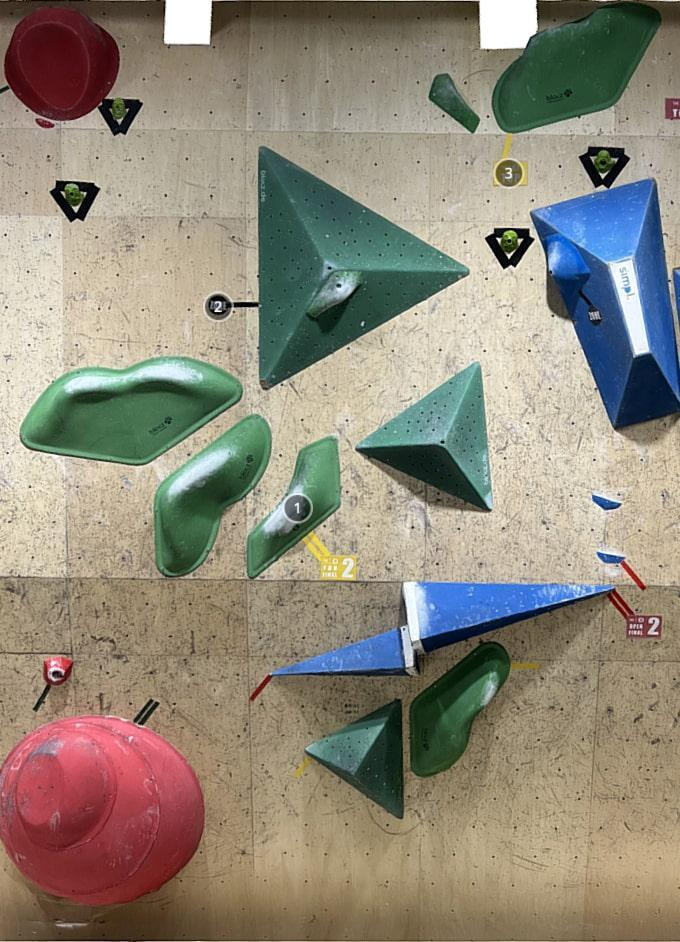hold: (0, 714, 207, 905), (529, 177, 680, 429), (18, 356, 245, 465), (490, 3, 661, 133), (154, 412, 272, 577), (404, 581, 616, 655), (408, 639, 511, 778), (245, 436, 341, 579), (4, 6, 121, 121), (303, 698, 403, 820), (268, 624, 420, 676), (543, 234, 591, 303), (428, 73, 480, 133), (306, 270, 365, 318), (578, 147, 631, 189), (484, 228, 536, 270), (50, 180, 100, 222), (98, 98, 143, 136), (42, 655, 74, 685), (591, 492, 623, 511), (673, 267, 680, 337), (596, 551, 627, 564), (35, 118, 55, 129)
volume: (257, 143, 475, 391), (351, 359, 493, 516)
